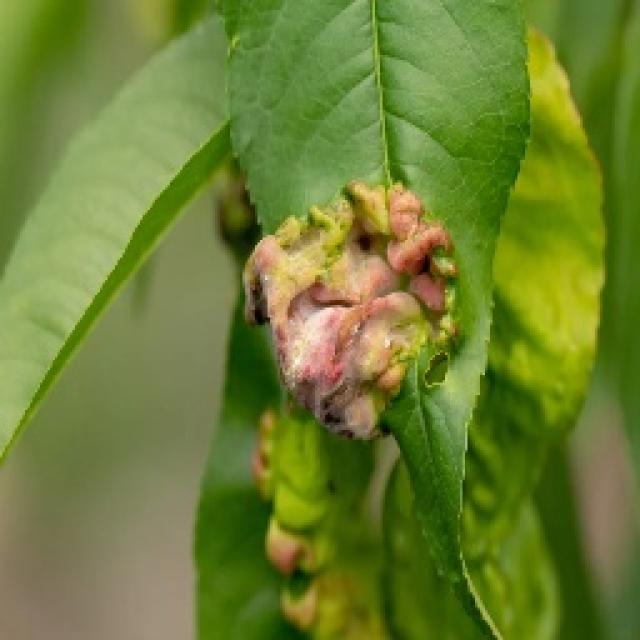Black_knot: (240, 178, 460, 442)
